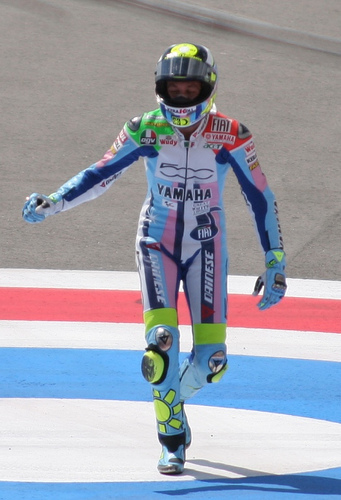helmet: (151, 34, 218, 123)
